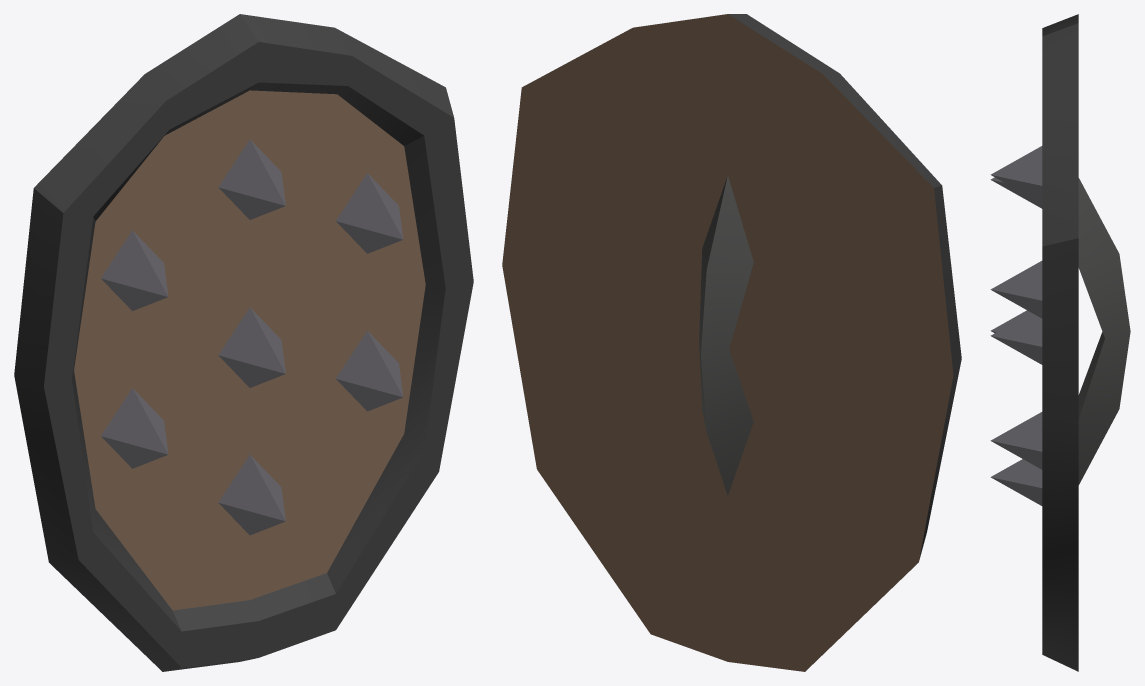
Rendered from Shield_4.fbx.
The picture shows the model from 3 angles, left to right: view 1: azimuth 30°, elevation 25°; view 2: azimuth 150°, elevation 25°; view 3: azimuth 270°, elevation 25°; orthographic projection. The views are drawn at different scales.
Parts seen in each view (by area): view 1: polySurface231; view 2: polySurface231; view 3: polySurface231.
Boxes of the visible parts, left/top/right/bottom form: polySurface231: left=14, top=14, right=473, bottom=671; polySurface231: left=502, top=14, right=961, bottom=671; polySurface231: left=990, top=14, right=1130, bottom=671.
Bounding box in the file's own units: 96.06 × 132 × 26.96.
